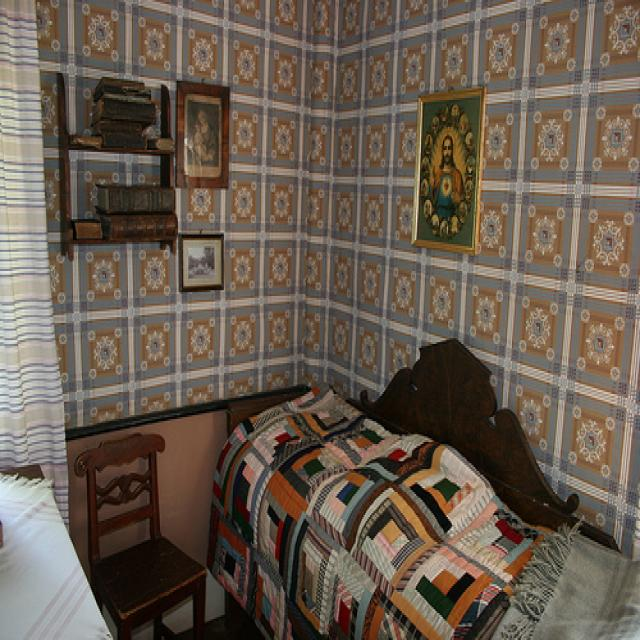chair: (74, 428, 211, 639)
